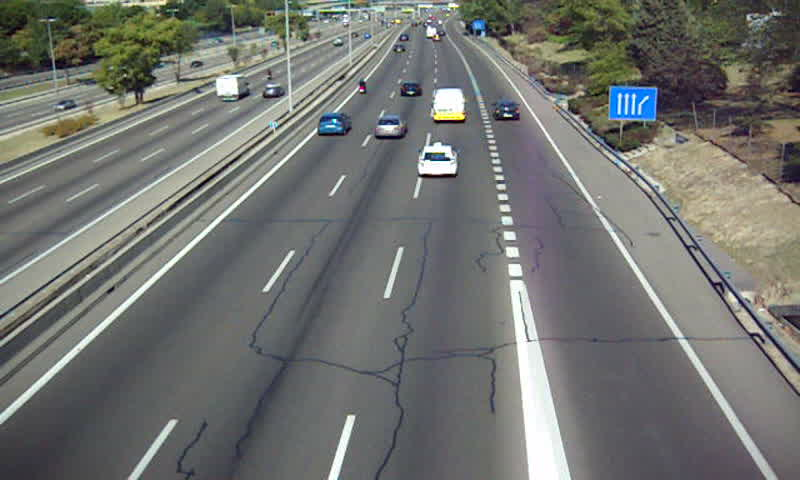car: (419, 145, 458, 175), (318, 112, 352, 135), (374, 115, 406, 137), (492, 101, 521, 123), (398, 80, 423, 97)
motorcycle: (355, 78, 367, 97)
van: (431, 88, 465, 120)
